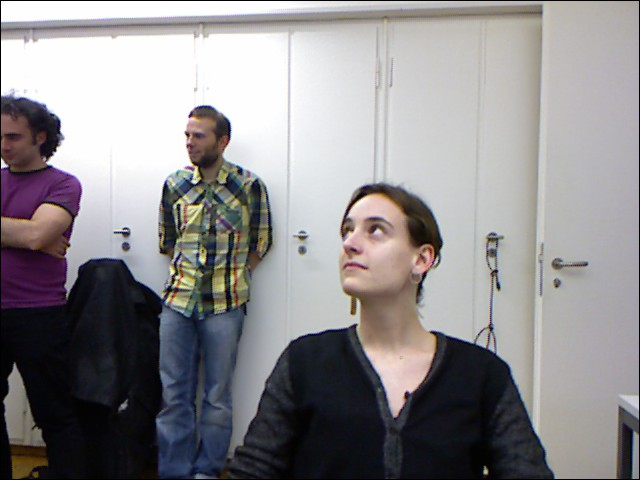deflection: (271, 178, 511, 430), (157, 108, 272, 226)
